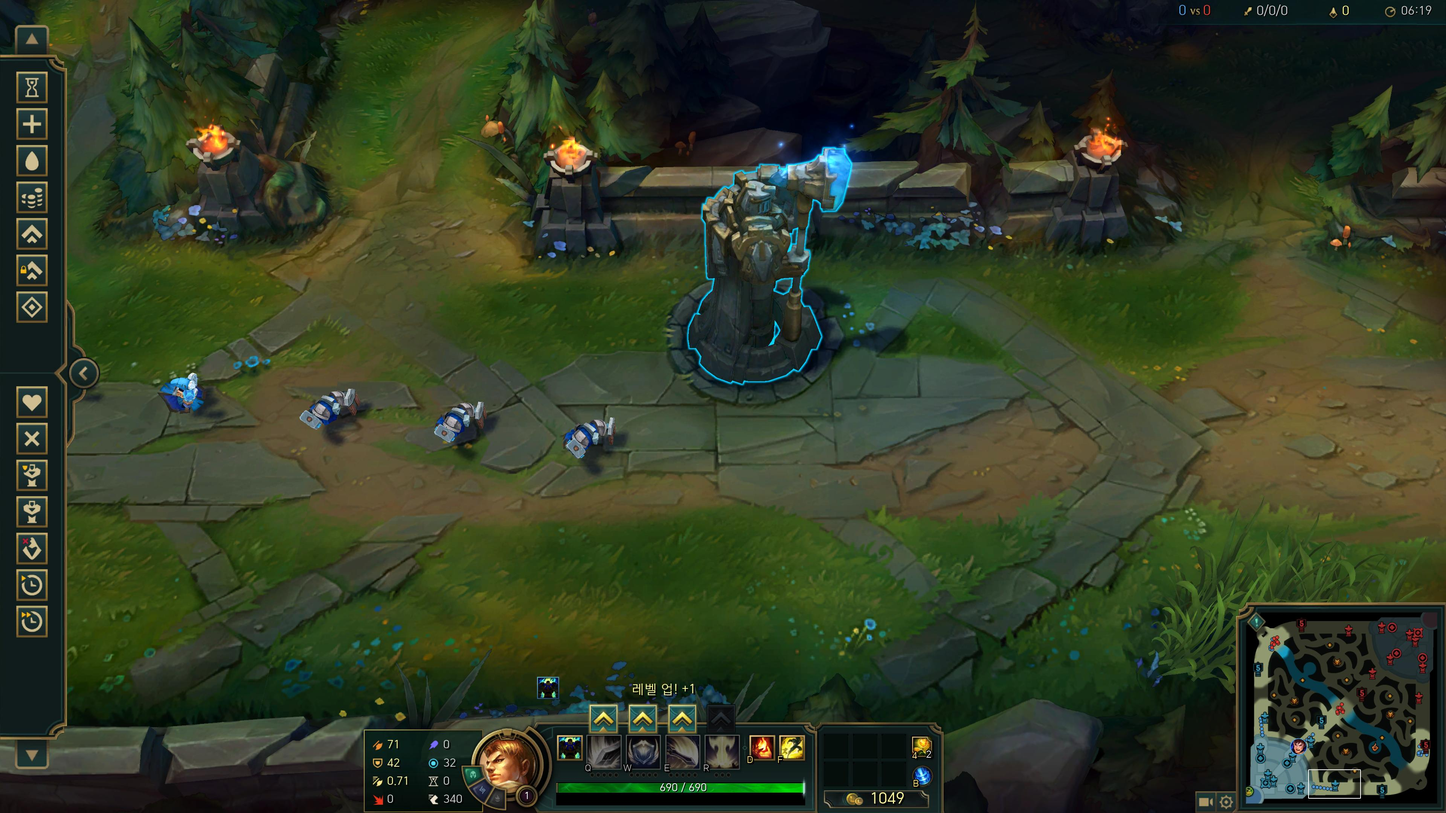ally-caster-minion: (158, 371, 202, 410)
ally-melee-minion: (298, 387, 357, 429), (433, 401, 484, 444), (564, 417, 614, 458)
ally-tower: (669, 148, 853, 407)
